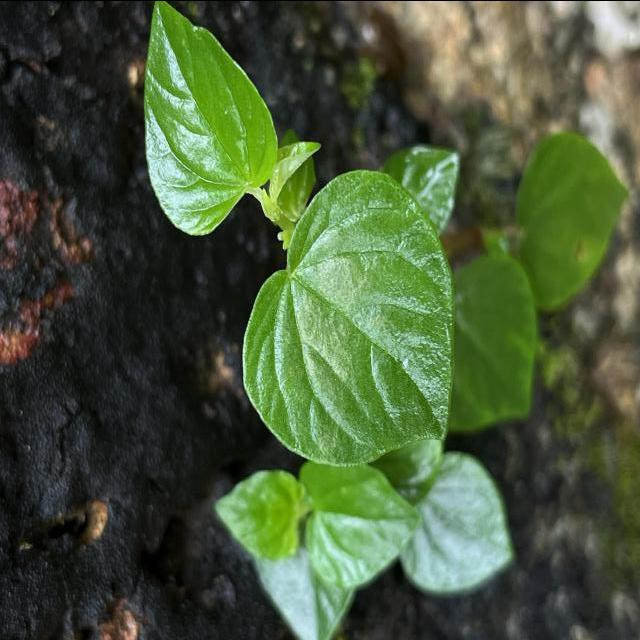Peperomia pellucida: (238, 165, 456, 467), (138, 0, 282, 236)
